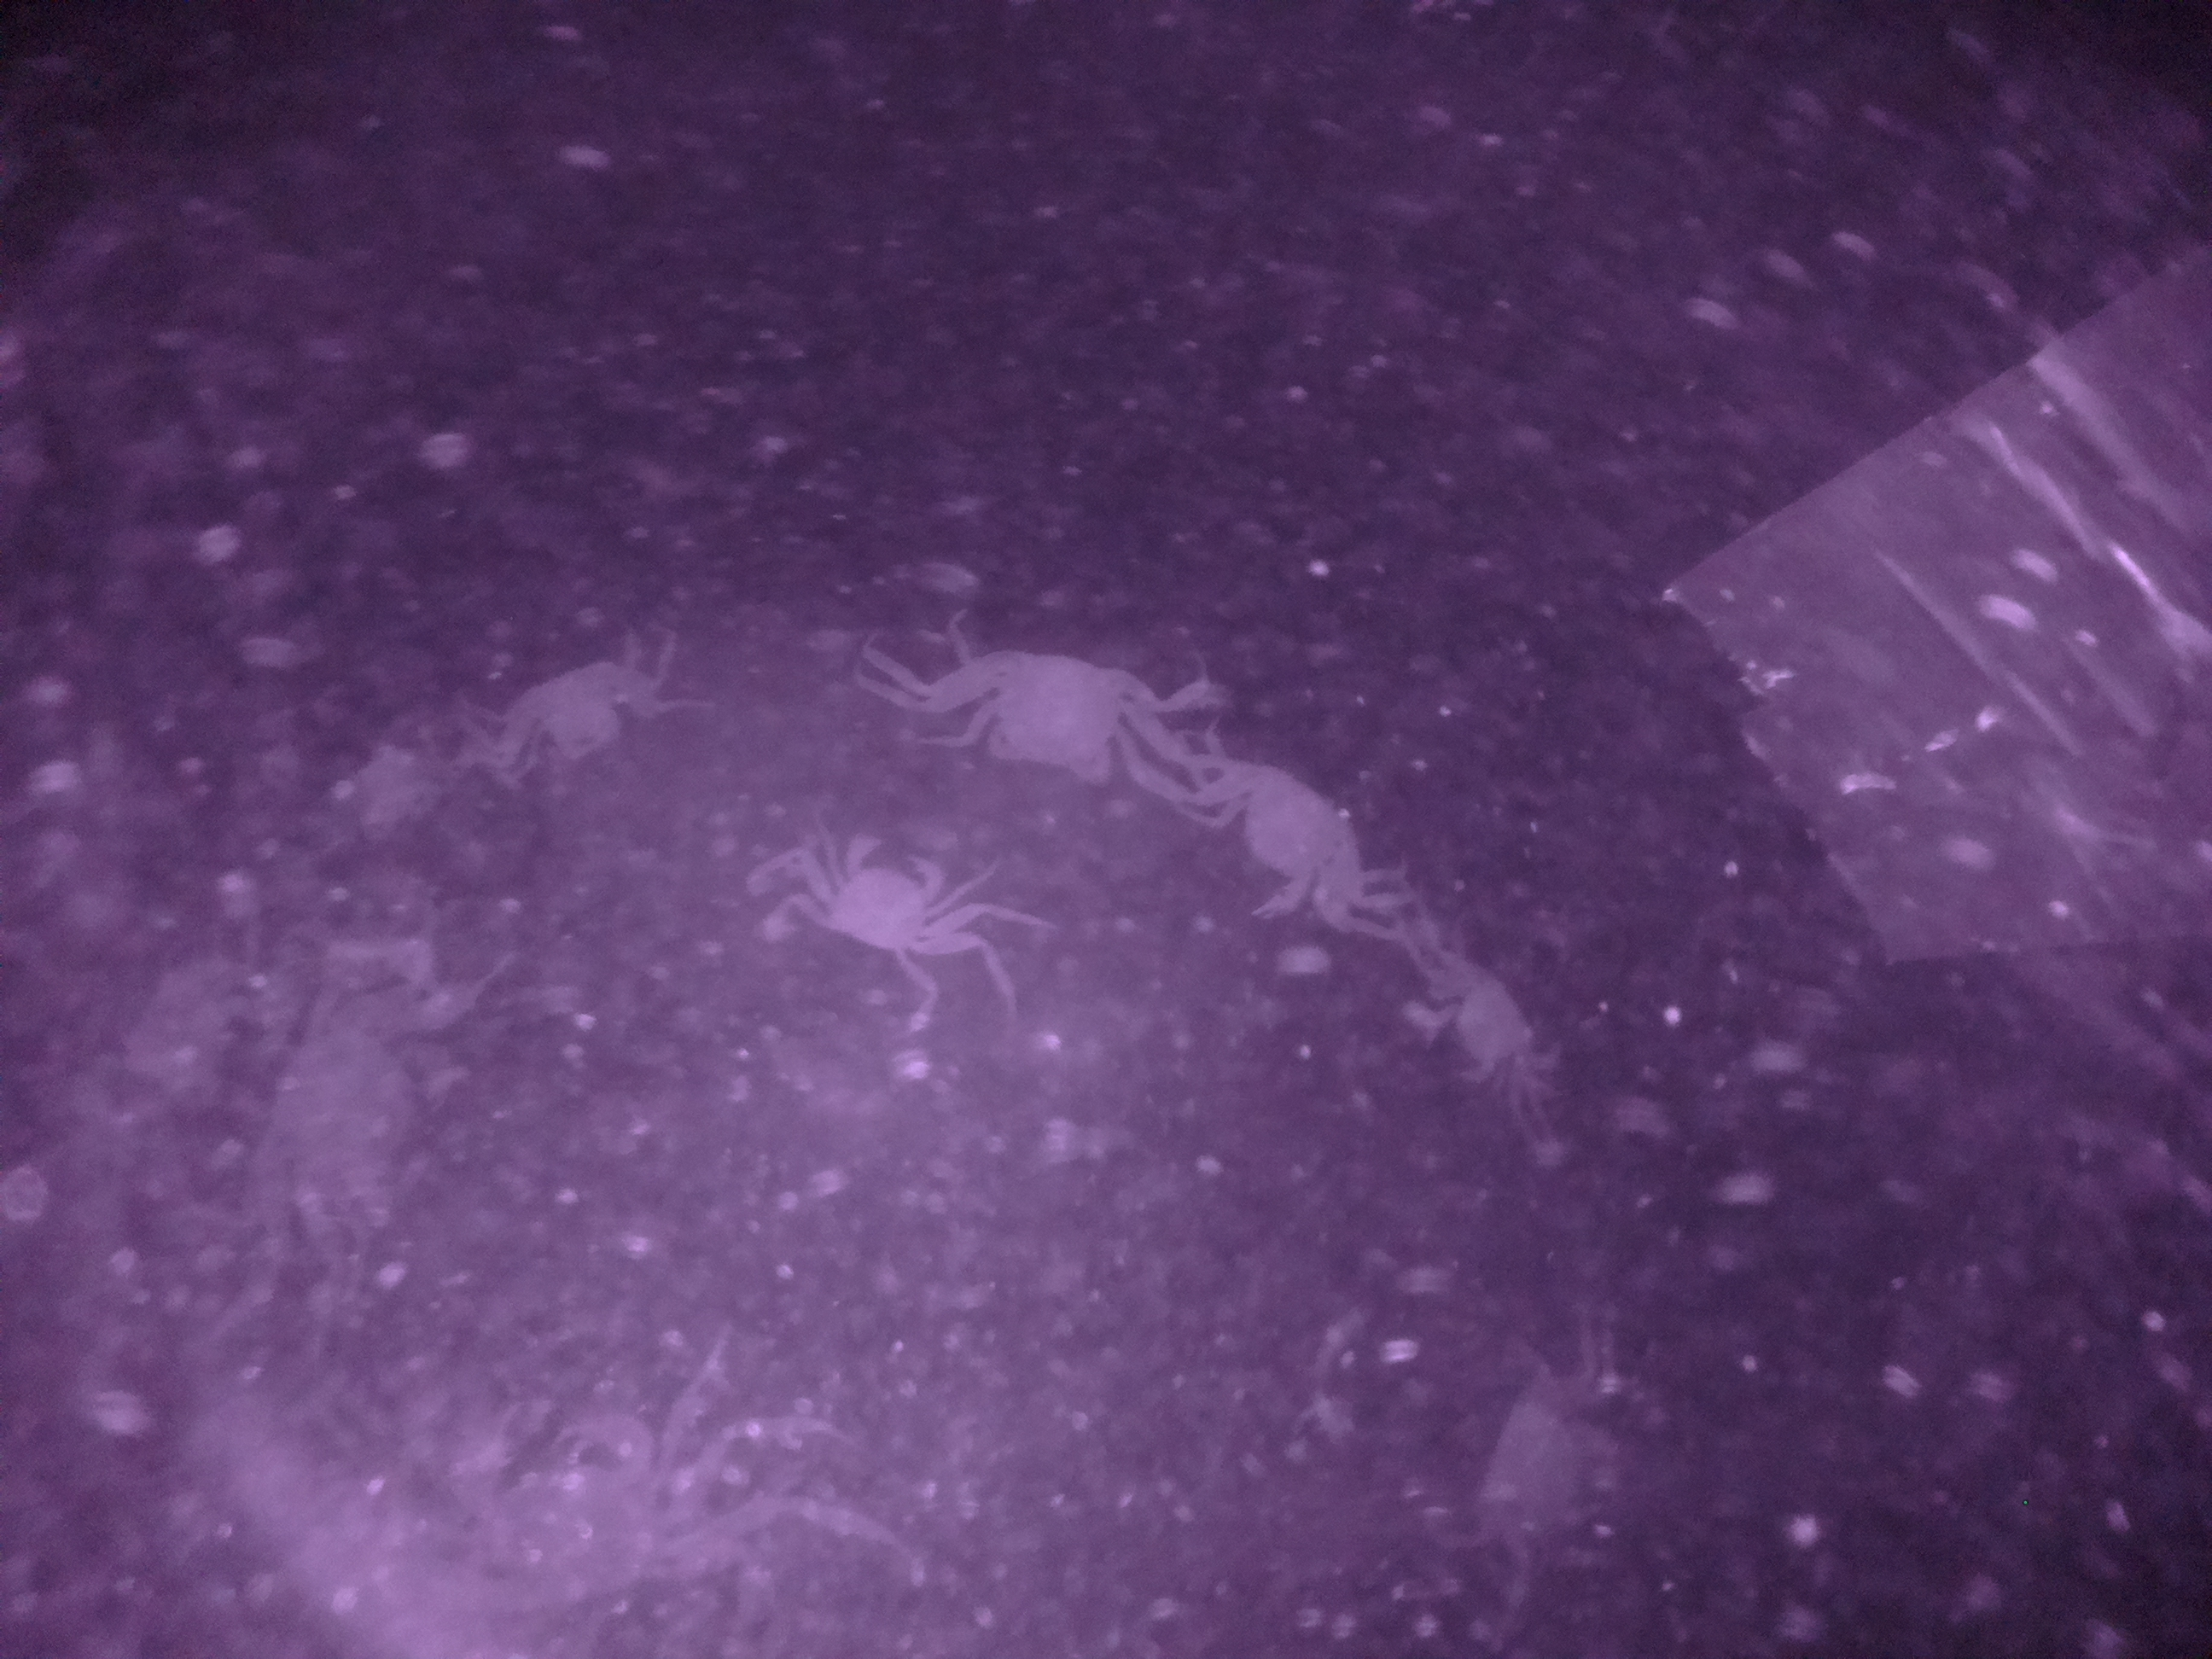Crab: (1170, 732, 1390, 931), (935, 624, 1162, 774), (1400, 931, 1595, 1096), (794, 828, 956, 972)
